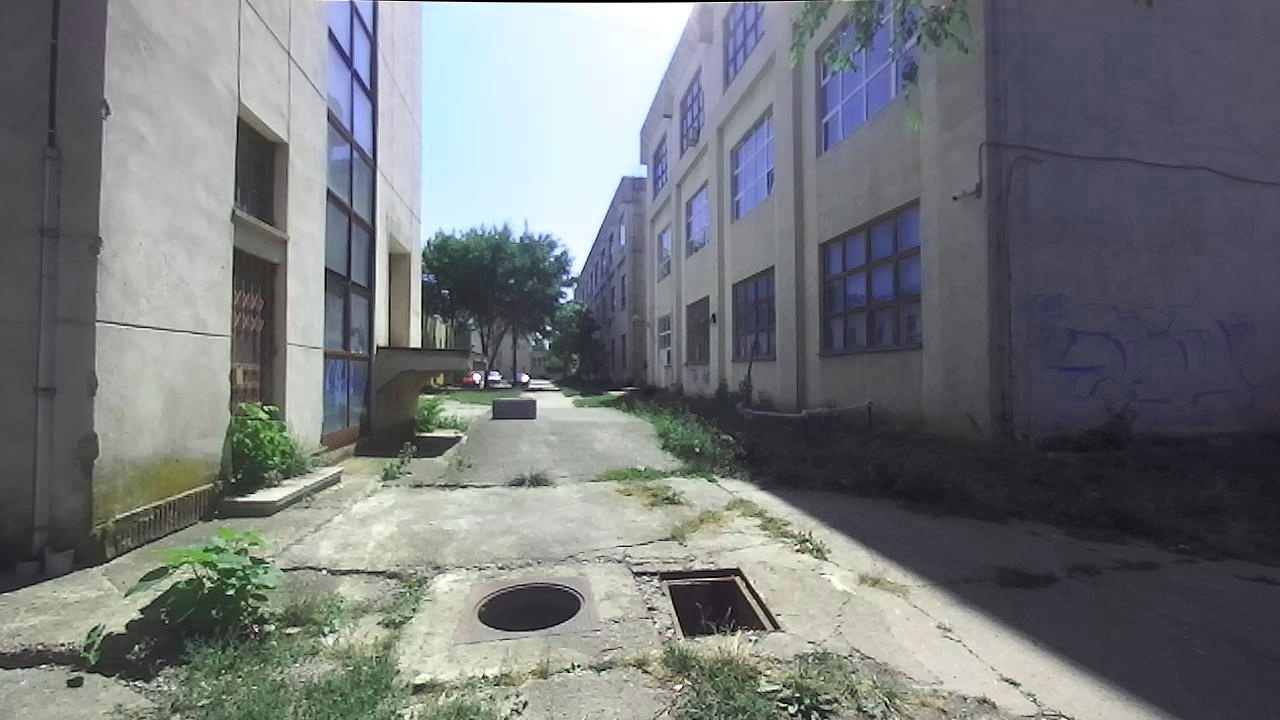drain: (654, 560, 790, 643), (463, 577, 592, 634)
